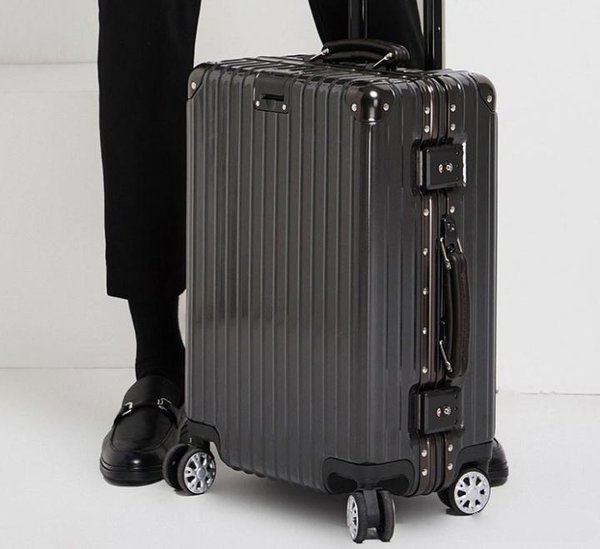box: (185, 54, 497, 493)
handle: (437, 215, 471, 381), (310, 39, 410, 73)
lock: (417, 386, 463, 433), (417, 144, 466, 188)
wheel: (162, 442, 217, 496), (345, 489, 397, 545), (437, 467, 491, 516)
